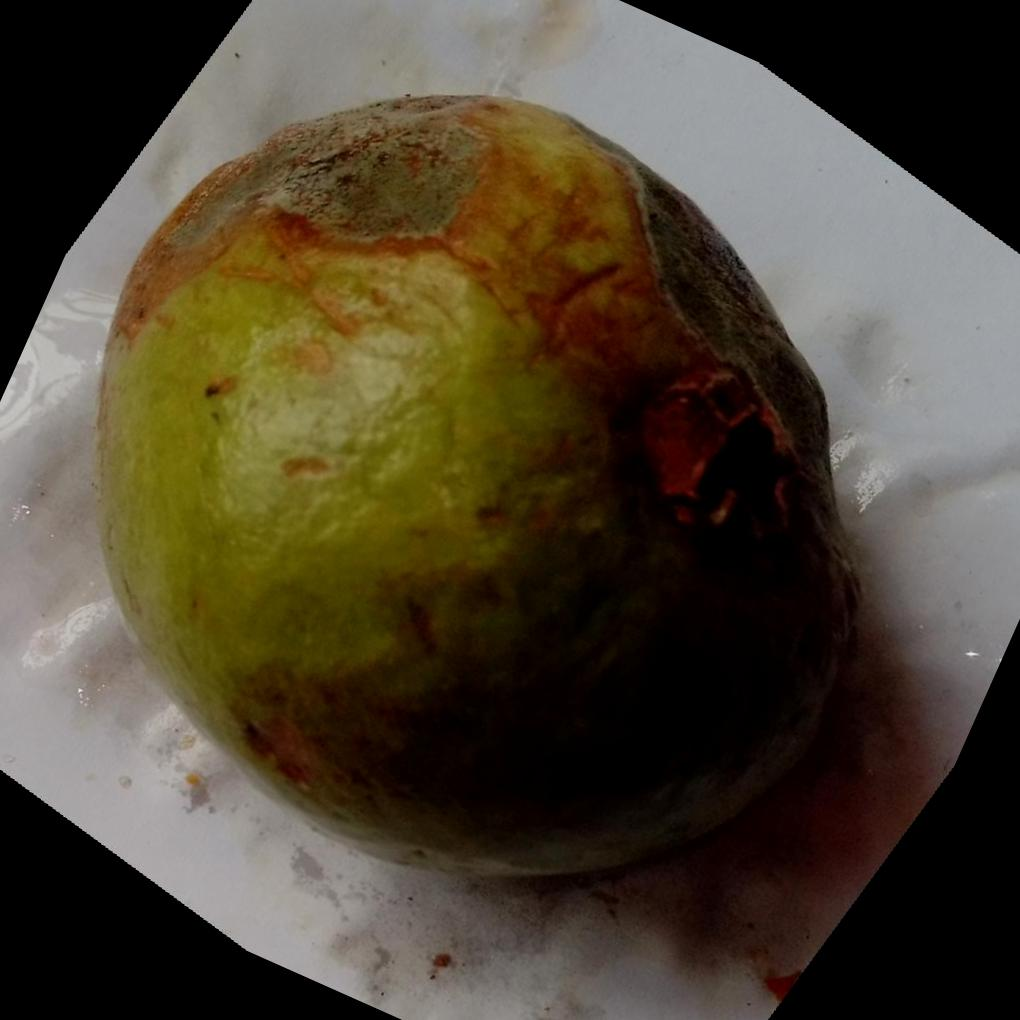FreshOrange: (91, 94, 863, 889)
